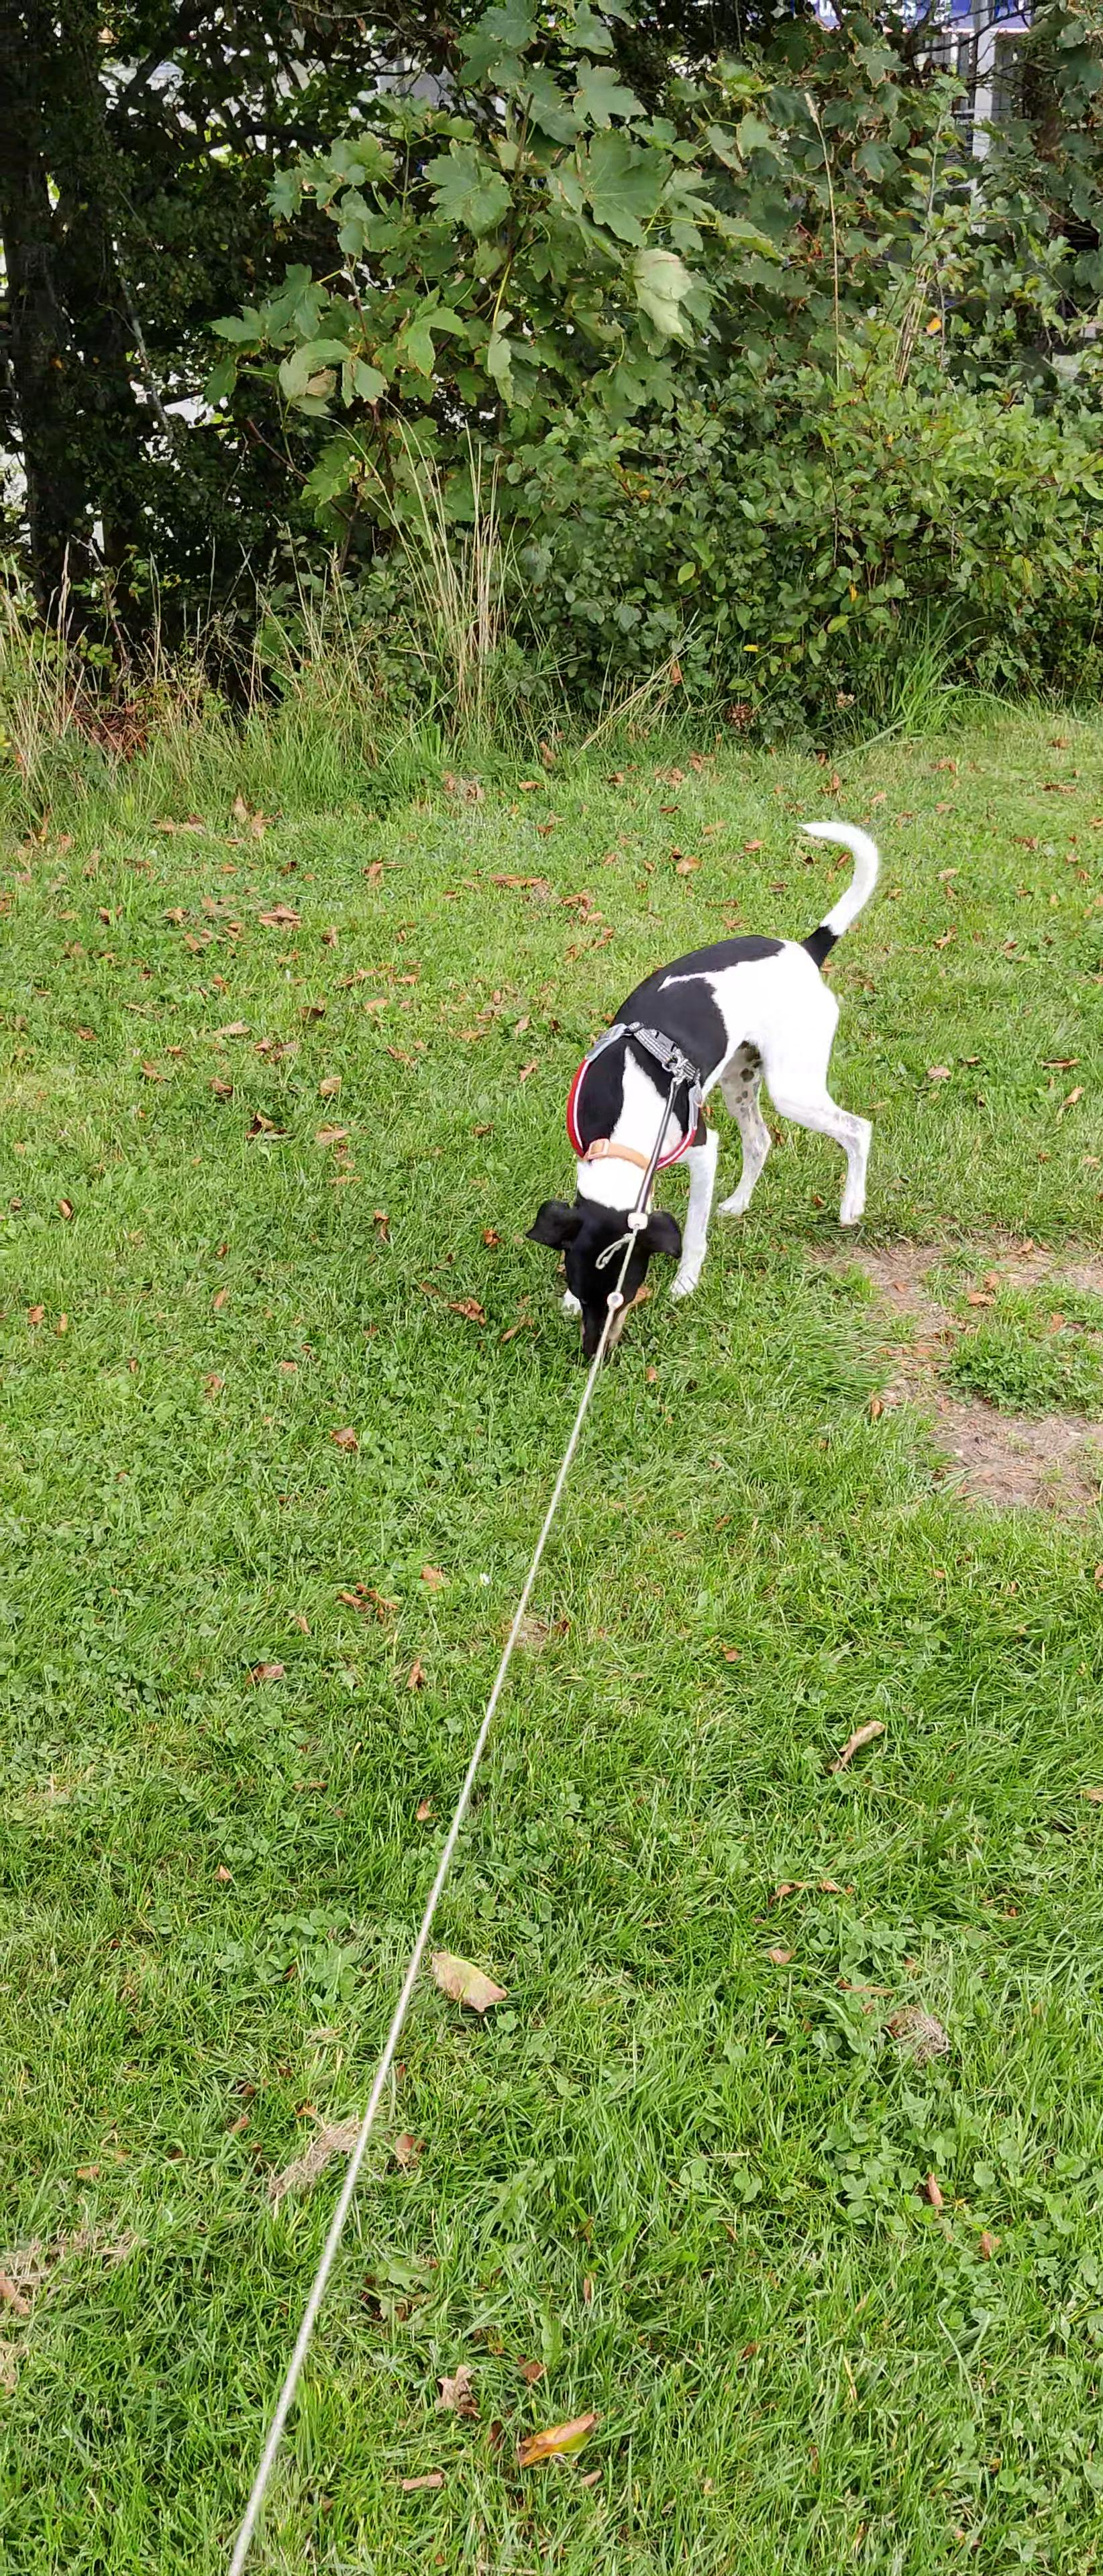Dog: (526, 810, 884, 1391)
